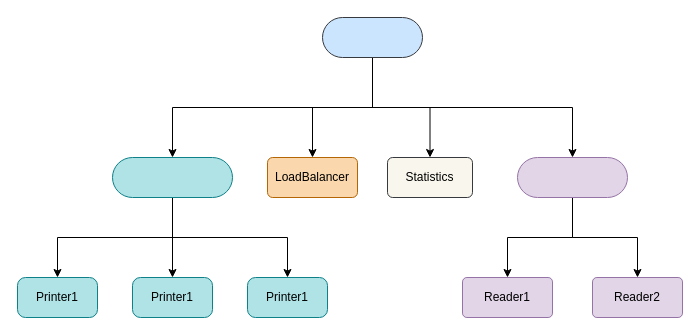
The diagram is 700 pixels wide and 335 high, and some of its shapes have lost their labels. The centre of each missing label's shape, as x and y in pixels:
"MainSupervisor" goes at pixel 372 37.
"PrinterSupervisor" goes at pixel 172 177.
"ReaderSupervisor" goes at pixel 572 177.
